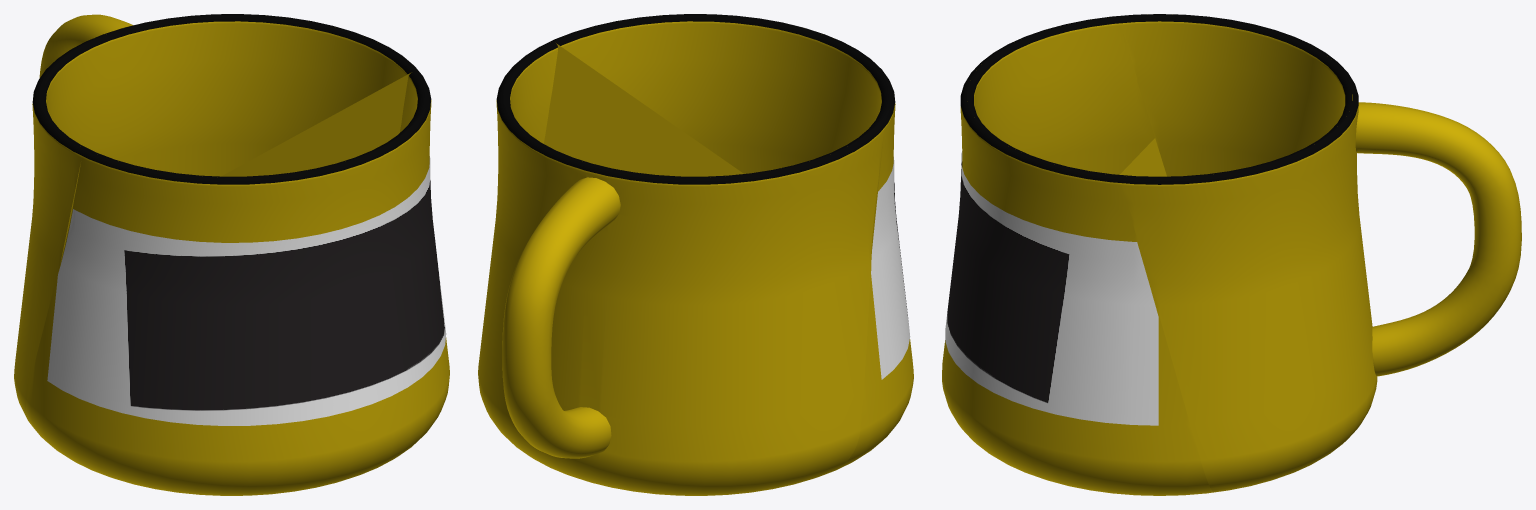
The model's file is Hot_Cup.fbx.
The picture shows the model from 3 angles, left to right: view 1: azimuth 30°, elevation 25°; view 2: azimuth 150°, elevation 25°; view 3: azimuth 270°, elevation 25°; orthographic projection.
Visible parts, largest first — view 1: Texure_Plane, Cup1_Part_03, Cup1_Part_01; view 2: Cup1_Part_01, Cup1_Part_03, Texure_Plane; view 3: Cup1_Part_01, Cup1_Part_03, Texure_Plane.
Boxes of the visible parts, x1,y1,x2,y2 form: Texure_Plane: [47, 156, 446, 425]; Cup1_Part_03: [26, 70, 449, 495]; Cup1_Part_01: [14, 14, 418, 422]; Cup1_Part_01: [478, 41, 884, 495]; Cup1_Part_03: [544, 14, 913, 471]; Texure_Plane: [871, 157, 910, 379]; Cup1_Part_01: [1119, 14, 1521, 492]; Cup1_Part_03: [942, 16, 1213, 495]; Texure_Plane: [945, 151, 1158, 425].
Bounding box in the file's own units: 2308 × 1898 × 3070.
3 materials, 1 textured.
